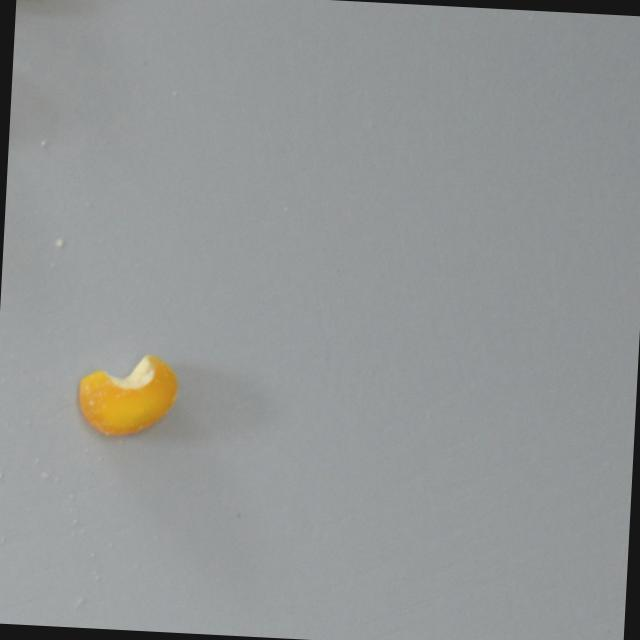dañado: (73, 343, 183, 442)
